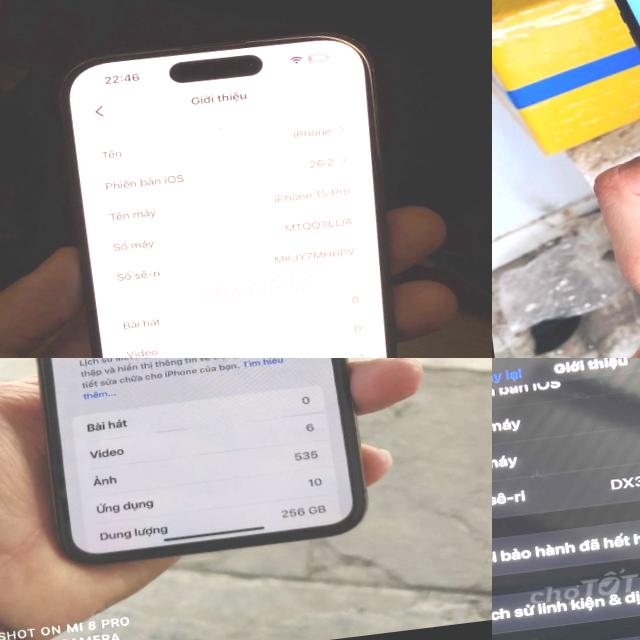gen_15: (45, 12, 418, 358)
gen_x_xs: (0, 358, 378, 577), (492, 358, 640, 640), (600, 0, 640, 287)
